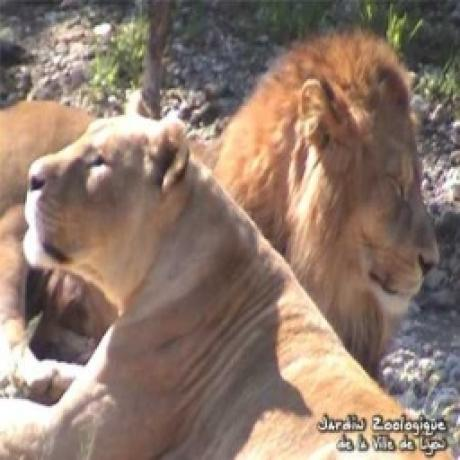Lion: (0, 23, 444, 381), (0, 112, 455, 460)
